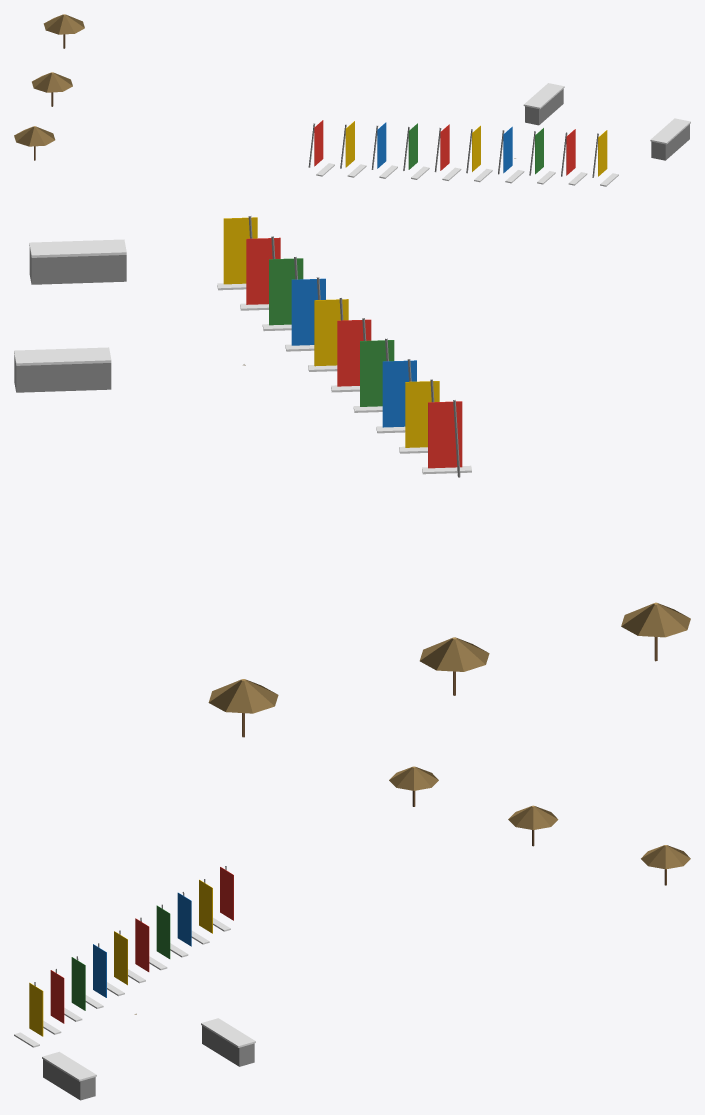
Rendered from hadicurari_fx.glb.
The picture shows the model from 3 angles, top to bottom: view 1: azimuth 30°, elevation 25°; view 2: azimuth 150°, elevation 25°; view 3: azimuth 270°, elevation 25°; orthographic projection. The views are drawn at different scales.
Visible parts, largest first — view 1: hadicurari_fx_lod0; view 2: hadicurari_fx_lod0; view 3: hadicurari_fx_lod0.
Part boxes in pixels (x1,y1,x2,y2): hadicurari_fx_lod0: (14, 14, 690, 186); hadicurari_fx_lod0: (14, 216, 690, 737); hadicurari_fx_lod0: (14, 766, 690, 1100).
Size of what is drawn, in the model's own units: 54.42 by 4.6 by 51.08.
